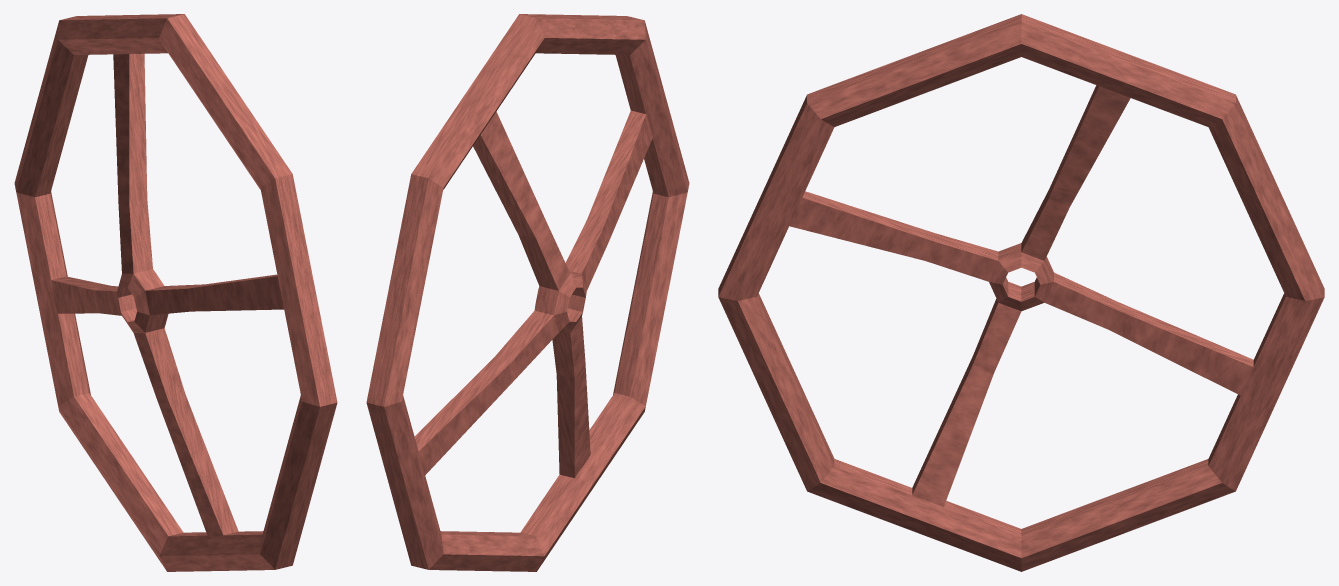
The model's file is SpecialKey-Wheel2.fbx.
3 renders of one model, left to right at view 1: azimuth 30°, elevation 25°; view 2: azimuth 150°, elevation 25°; view 3: azimuth 270°, elevation 25°, orthographic.
Parts seen in each view (by area): view 1: Key-Wheel; view 2: Key-Wheel; view 3: Key-Wheel.
Boxes of the visible parts, x1,y1,x2,y2 form: Key-Wheel: (14,14,337,571); Key-Wheel: (366,14,689,571); Key-Wheel: (718,14,1324,571).
Bounding box in the file's own units: 9.98 × 81.11 × 81.11.
1 material, 1 textured.
